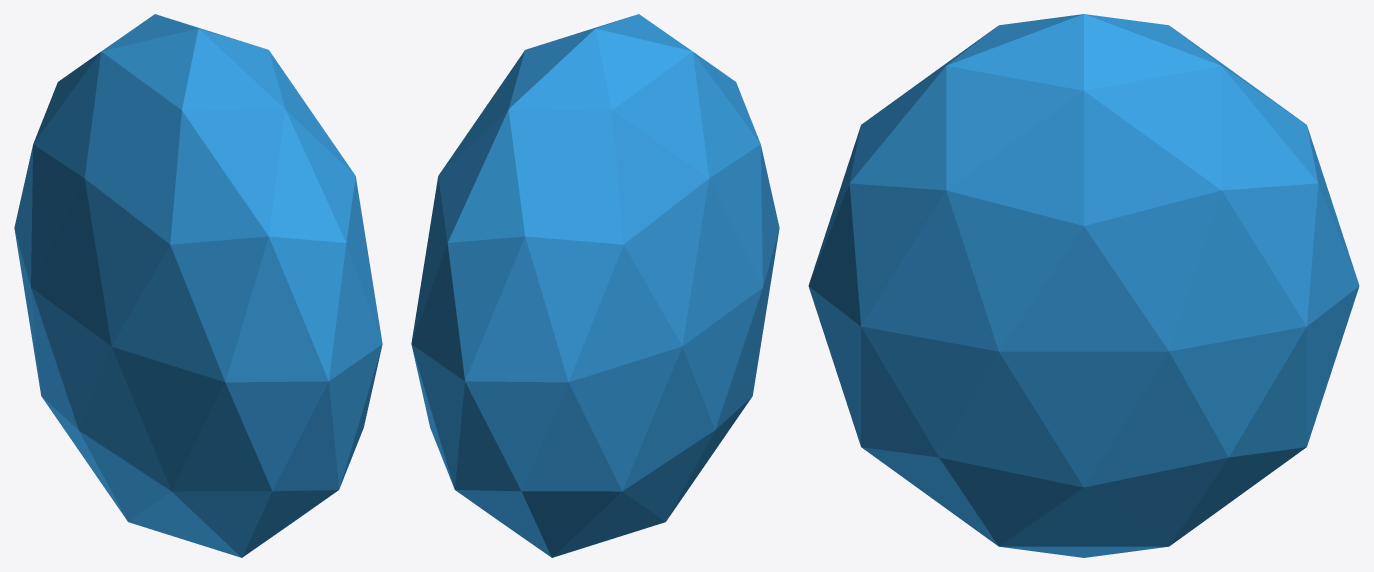
File: elmnt2.fbx
3 renders of one model, left to right at view 1: azimuth 30°, elevation 25°; view 2: azimuth 150°, elevation 25°; view 3: azimuth 270°, elevation 25°, orthographic. The views are drawn at different scales.
Parts seen in each view (by area): view 1: Icosphere; view 2: Icosphere; view 3: Icosphere.
Part boxes in pixels (bbox=[...]): Icosphere: bbox=[14, 14, 382, 557]; Icosphere: bbox=[411, 14, 779, 557]; Icosphere: bbox=[808, 14, 1359, 557].
Bounding box in the file's own units: 190 × 368 × 338.
